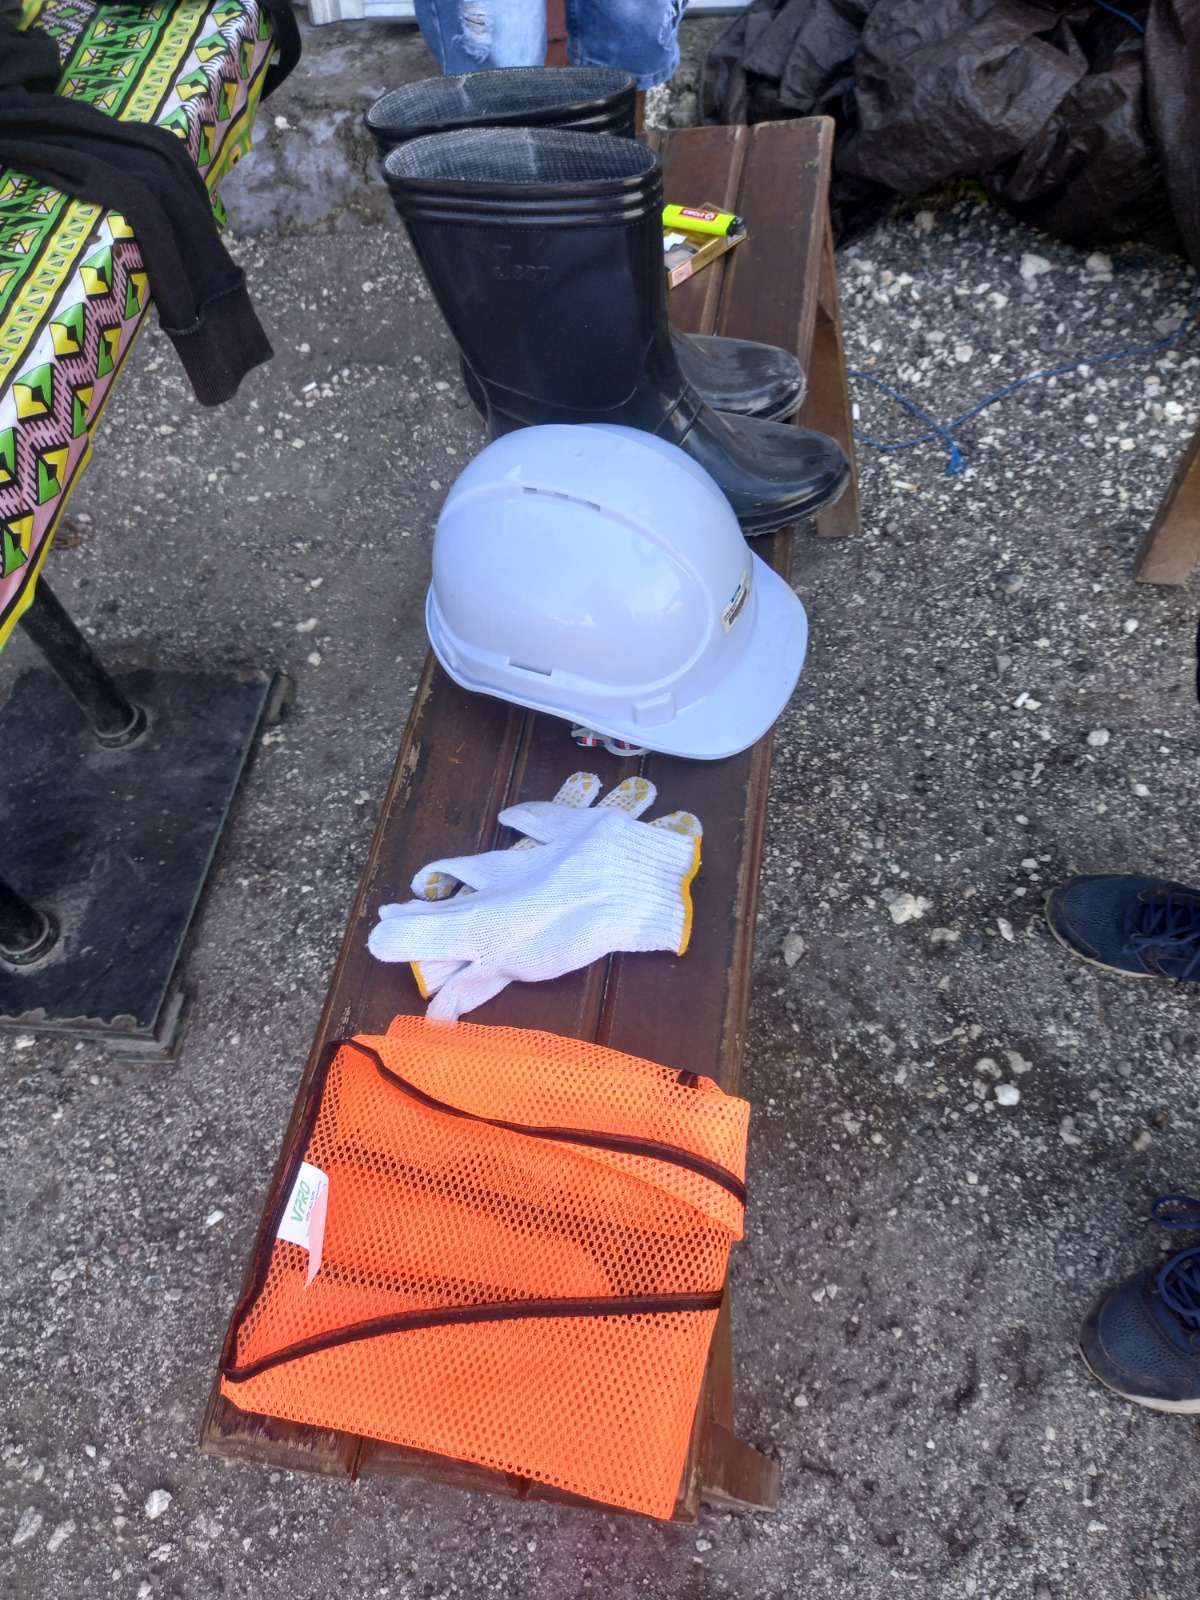ROMPI: (279, 1066, 716, 1443)
SARUNG_TANGAN: (379, 835, 667, 988)
